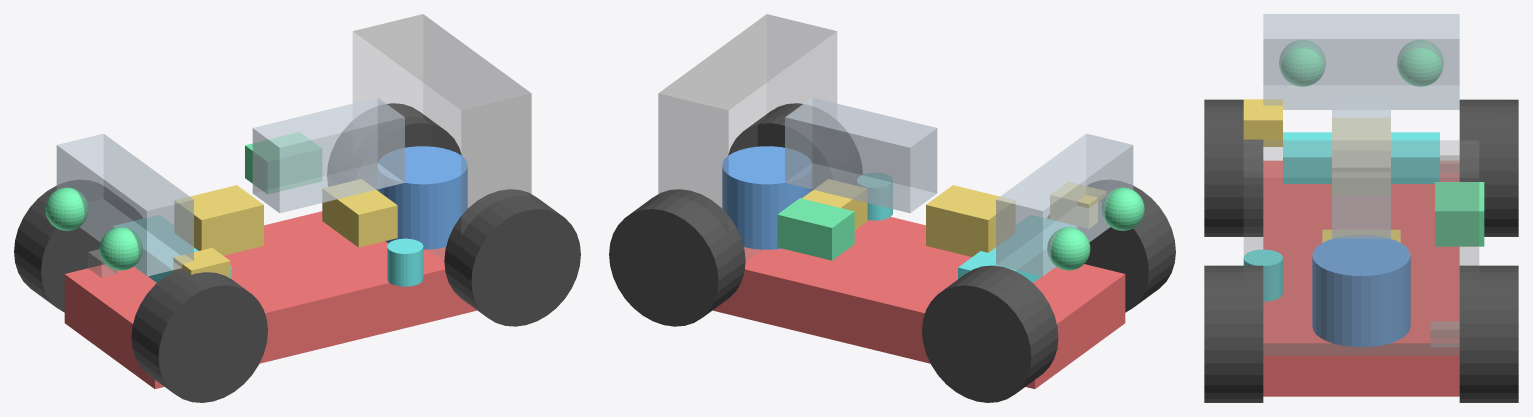
File: nissanleafev.glb
3 views of the same model, side by side, from view 1: azimuth 30°, elevation 25°; view 2: azimuth 150°, elevation 25°; view 3: azimuth 270°, elevation 25° (orthographic). The views are drawn at different scales.
Parts seen in each view (by area): view 1: Battery_Pack, Chassis_Body, Wheel_Rear_Right, Wheel_Front_Right, Window_Side, Window_Front, Wheel_Front_Left, Electric_Motor, Wheel_Rear_Left, Power_Inverter, Transmission_Unit, OnBoard_Charger (+5 smaller); view 2: Battery_Pack, Chassis_Body, Wheel_Front_Left, Wheel_Rear_Left, Window_Side, Window_Front, Electric_Motor, Wheel_Front_Right, Wheel_Rear_Right, Power_Inverter, OnBoard_Charger, Cooling_Radiator (+5 smaller); view 3: Chassis_Body, Battery_Pack, Window_Front, Electric_Motor, Wheel_Rear_Left, Wheel_Rear_Right, Window_Side, Wheel_Front_Right, Wheel_Front_Left, Cooling_Radiator, Power_Inverter, OnBoard_Charger (+7 smaller).
Boxes of the visible parts, bbox=[...] form: Battery_Pack: bbox=[64, 211, 477, 388]; Chassis_Body: bbox=[353, 14, 531, 260]; Wheel_Rear_Right: bbox=[444, 189, 580, 326]; Wheel_Front_Right: bbox=[131, 268, 267, 402]; Window_Side: bbox=[252, 97, 404, 213]; Window_Front: bbox=[56, 133, 193, 276]; Wheel_Front_Left: bbox=[14, 180, 142, 312]; Electric_Motor: bbox=[377, 146, 467, 249]; Wheel_Rear_Left: bbox=[327, 103, 461, 190]; Power_Inverter: bbox=[174, 185, 263, 255]; Transmission_Unit: bbox=[322, 179, 397, 247]; OnBoard_Charger: bbox=[245, 132, 321, 193]; Battery_Pack: bbox=[712, 217, 1125, 388]; Chassis_Body: bbox=[658, 14, 836, 260]; Wheel_Front_Left: bbox=[922, 265, 1058, 402]; Wheel_Rear_Left: bbox=[609, 189, 745, 326]; Window_Side: bbox=[785, 97, 937, 213]; Window_Front: bbox=[996, 133, 1133, 276]; Electric_Motor: bbox=[722, 146, 812, 249]; Wheel_Front_Right: bbox=[1047, 180, 1175, 312]; Wheel_Rear_Right: bbox=[728, 103, 862, 190]; Power_Inverter: bbox=[926, 185, 1015, 256]; OnBoard_Charger: bbox=[777, 198, 854, 260]; Cooling_Radiator: bbox=[958, 215, 1076, 282]; Chassis_Body: bbox=[1244, 140, 1478, 355]; Battery_Pack: bbox=[1263, 160, 1459, 396]; Window_Front: bbox=[1263, 14, 1459, 109]; Electric_Motor: bbox=[1312, 235, 1410, 347]; Wheel_Rear_Left: bbox=[1459, 265, 1518, 402]; Wheel_Rear_Right: bbox=[1204, 265, 1263, 402]; Window_Side: bbox=[1332, 101, 1390, 238]; Wheel_Front_Right: bbox=[1204, 99, 1263, 236]; Wheel_Front_Left: bbox=[1459, 99, 1518, 236]; Cooling_Radiator: bbox=[1283, 132, 1439, 183]; Power_Inverter: bbox=[1332, 118, 1390, 194]; OnBoard_Charger: bbox=[1435, 182, 1484, 246].
Bounding box in the file's own units: 2.77 × 1.3 × 1.6.
